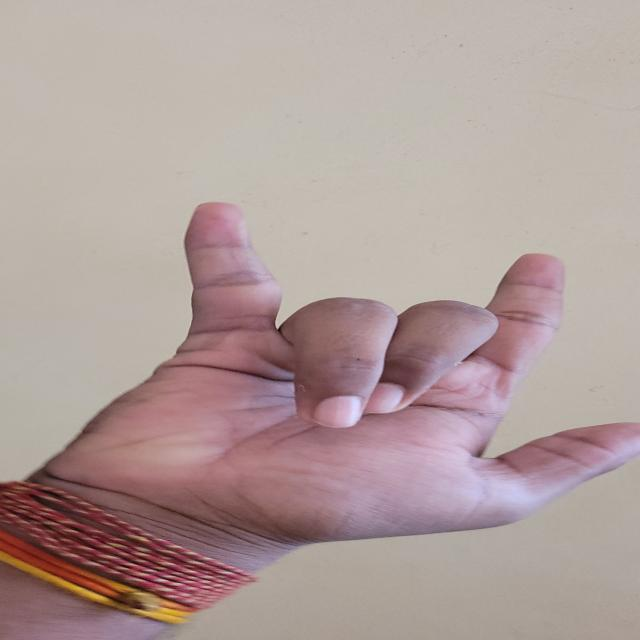i like you: (37, 194, 640, 617)
